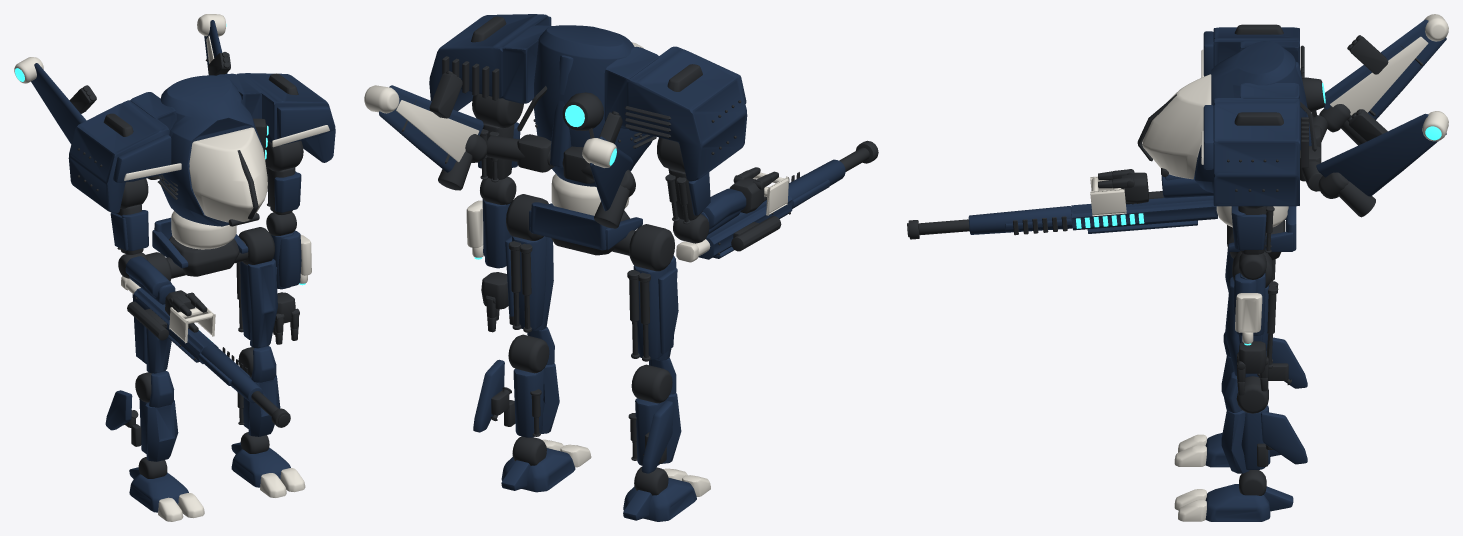
File: Titan_L1.fbx
3 views of the same model, side by side, from view 1: azimuth 30°, elevation 25°; view 2: azimuth 150°, elevation 25°; view 3: azimuth 270°, elevation 25° (orthographic). The views are drawn at different scales.
Parts seen in each view (by area): view 1: L1_Mantle_R, L1_Torso_Upper, L1_Hatch, L1_Mantle_L, L1_Thigh_Plate_L, L1_Pelvis, L1_Shin_Plate_R, L1_Wing_R, L1_Waist, L1_Rifle_Shroud, L1_Foot_R, L1_Foot_L (+38 smaller); view 2: L1_Mantle_R, L1_Torso_Upper, L1_Mantle_L, L1_Collar, L1_Wing_L, L1_Wing_Top_L, L1_Wing_Boom_L, L1_Thigh_Hub_R, L1_Thigh_L, L1_Shin_L, L1_Rifle_Receiver, L1_Foot_R (+49 smaller); view 3: L1_Mantle_L, L1_Hatch, L1_Wing_L, L1_Torso_Upper, L1_Rifle_Receiver, L1_Wing_R, L1_Mantle_R, L1_Wing_Top_R, L1_Rifle_Shroud, L1_Foot_L, L1_Calf_Blade_L, L1_Shin_Plate_L (+23 smaller).
Boxes of the visible parts, x1=… form: L1_Mantle_R: x1=68, y1=92, x2=176, y2=213; L1_Torso_Upper: x1=159, y1=75, x2=262, y2=226; L1_Hatch: x1=189, y1=127, x2=267, y2=222; L1_Mantle_L: x1=217, y1=73, x2=335, y2=162; L1_Thigh_Plate_L: x1=247, y1=259, x2=277, y2=348; L1_Pelvis: x1=166, y1=236, x2=248, y2=278; L1_Shin_Plate_R: x1=145, y1=400, x2=178, y2=461; L1_Wing_R: x1=31, y1=63, x2=86, y2=143; L1_Waist: x1=171, y1=211, x2=236, y2=249; L1_Rifle_Shroud: x1=198, y1=345, x2=263, y2=403; L1_Foot_R: x1=129, y1=472, x2=188, y2=512; L1_Foot_L: x1=231, y1=448, x2=290, y2=487; L1_Mantle_R: x1=604, y1=46, x2=747, y2=181; L1_Torso_Upper: x1=534, y1=25, x2=653, y2=186; L1_Mantle_L: x1=429, y1=14, x2=552, y2=110; L1_Collar: x1=529, y1=202, x2=642, y2=250; L1_Wing_L: x1=379, y1=85, x2=483, y2=172; L1_Wing_Top_L: x1=396, y1=100, x2=479, y2=162; L1_Wing_Boom_L: x1=486, y1=134, x2=554, y2=172; L1_Thigh_Hub_R: x1=629, y1=224, x2=674, y2=271; L1_Thigh_L: x1=512, y1=236, x2=546, y2=329; L1_Shin_L: x1=513, y1=368, x2=543, y2=437; L1_Rifle_Receiver: x1=698, y1=194, x2=792, y2=259; L1_Foot_R: x1=623, y1=477, x2=696, y2=521; L1_Mantle_L: x1=1203, y1=83, x2=1299, y2=206; L1_Hatch: x1=1142, y1=74, x2=1211, y2=179; L1_Wing_L: x1=1316, y1=113, x2=1446, y2=196; L1_Torso_Upper: x1=1194, y1=41, x2=1306, y2=193; L1_Rifle_Receiver: x1=1071, y1=196, x2=1217, y2=233; L1_Wing_R: x1=1324, y1=19, x2=1446, y2=119; L1_Mantle_R: x1=1203, y1=27, x2=1299, y2=76; L1_Wing_Top_R: x1=1330, y1=36, x2=1428, y2=115; L1_Rifle_Shroud: x1=968, y1=206, x2=1072, y2=234; L1_Foot_L: x1=1205, y1=484, x2=1270, y2=521; L1_Calf_Blade_L: x1=1261, y1=411, x2=1307, y2=464; L1_Shin_Plate_L: x1=1221, y1=410, x2=1249, y2=473.
Size of the model in its own units: 3.56 by 5.81 by 6.63.
